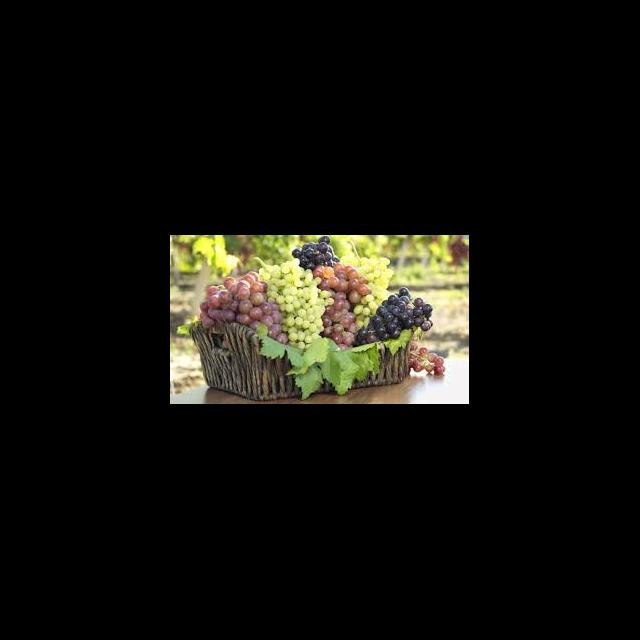grape: (200, 270, 288, 344), (356, 288, 434, 346), (292, 236, 340, 270)
